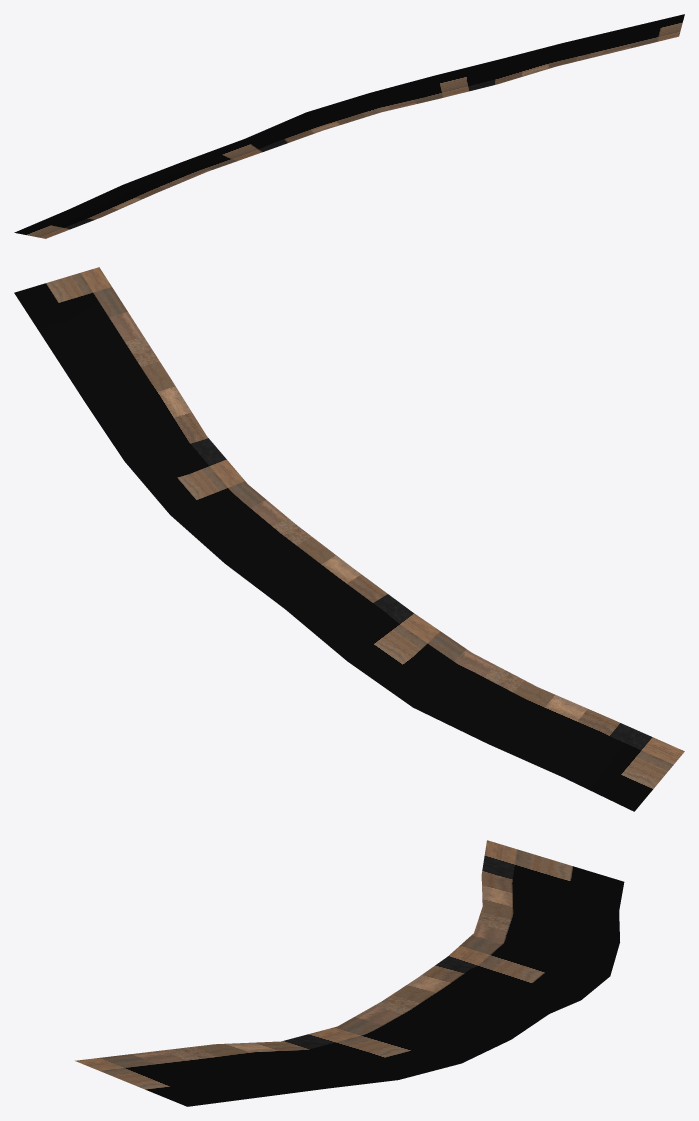
File: Tide_GenerateSurfaceDecal_A7D3F962_0_FlowDecal_SmallMesh_Mesh_x10_y5_165_0_ATLAS.fbx
3 views of the same model, one above another, from view 1: azimuth 30°, elevation 25°; view 2: azimuth 150°, elevation 25°; view 3: azimuth 270°, elevation 25° (orthographic). The views are drawn at different scales.
Visible parts, largest first — view 1: Tide_GenerateSurfaceDecal_A7D3F962_0_FlowDecal_SmallMesh_Mes; view 2: Tide_GenerateSurfaceDecal_A7D3F962_0_FlowDecal_SmallMesh_Mes; view 3: Tide_GenerateSurfaceDecal_A7D3F962_0_FlowDecal_SmallMesh_Mes.
Boxes of the visible parts, x1,y1,x2,y2 form: Tide_GenerateSurfaceDecal_A7D3F962_0_FlowDecal_SmallMesh_Mes: (14,14,684,238); Tide_GenerateSurfaceDecal_A7D3F962_0_FlowDecal_SmallMesh_Mes: (14,267,684,811); Tide_GenerateSurfaceDecal_A7D3F962_0_FlowDecal_SmallMesh_Mes: (75,840,624,1106).
Size of the model in its own units: 948 by 400 by 270.
